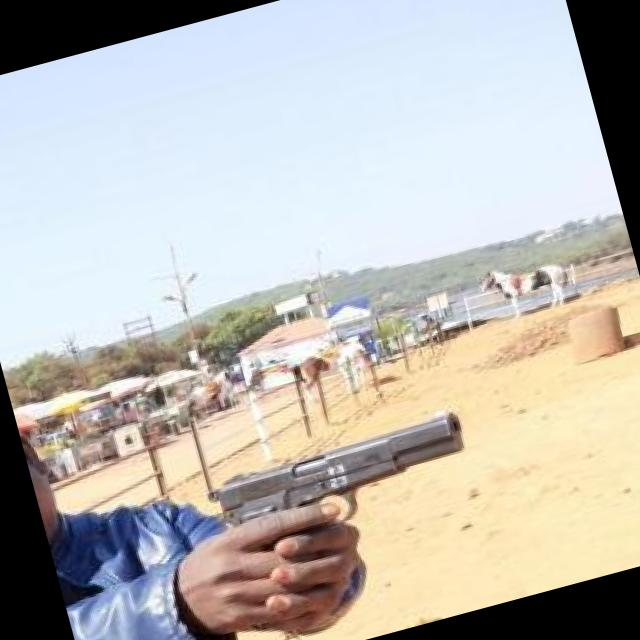Guns: (174, 370, 533, 640)
